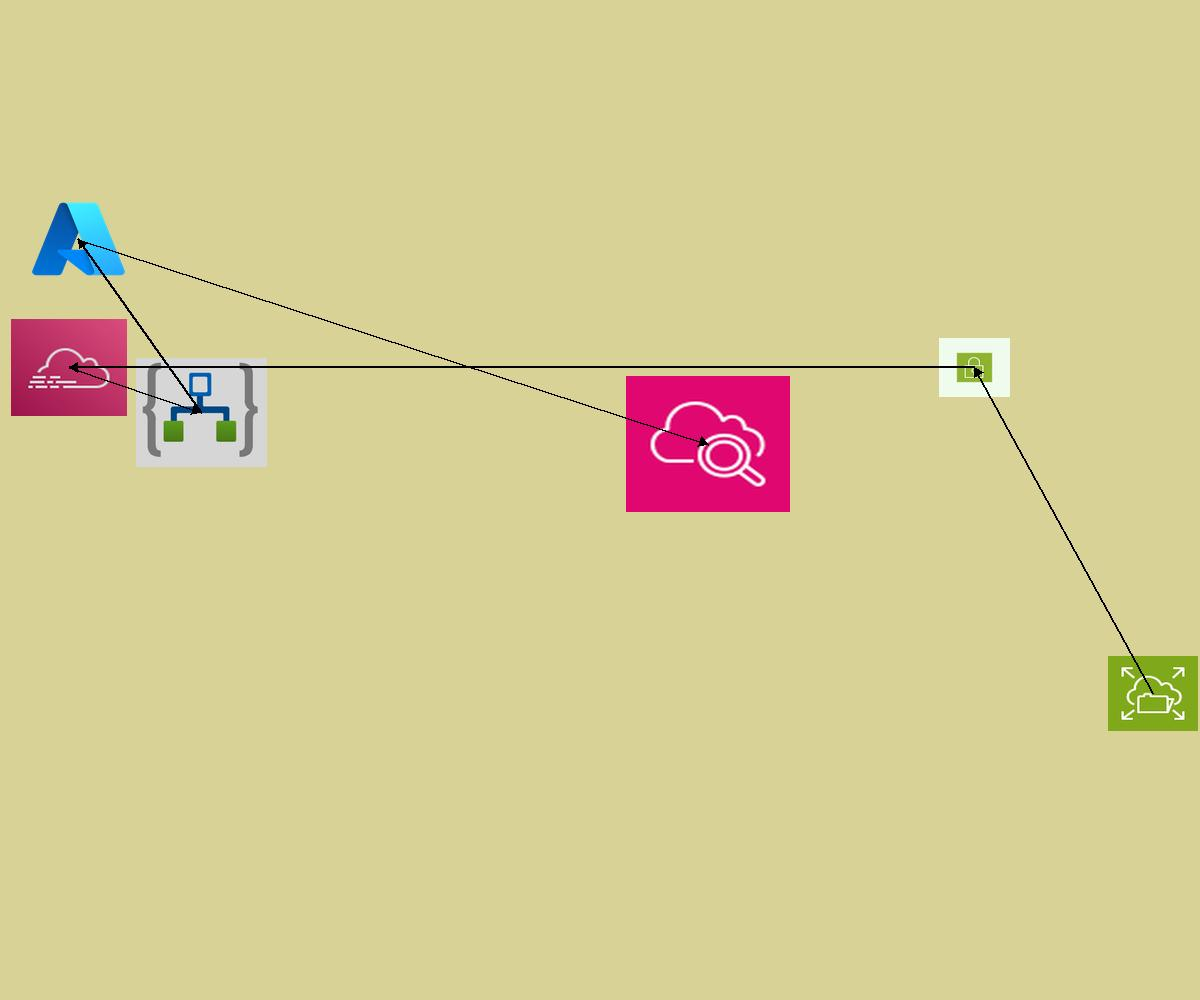AWS-CloudTrail: (11, 319, 127, 416)
AWS-CloudWatch: (626, 376, 790, 512)
AWS-EFS: (1108, 656, 1198, 731)
AWS-Public-subnet: (939, 338, 1010, 397)
Azure_integration-204-Logic-Apps: (136, 358, 267, 467)
Azure_services: (28, 197, 129, 281)
